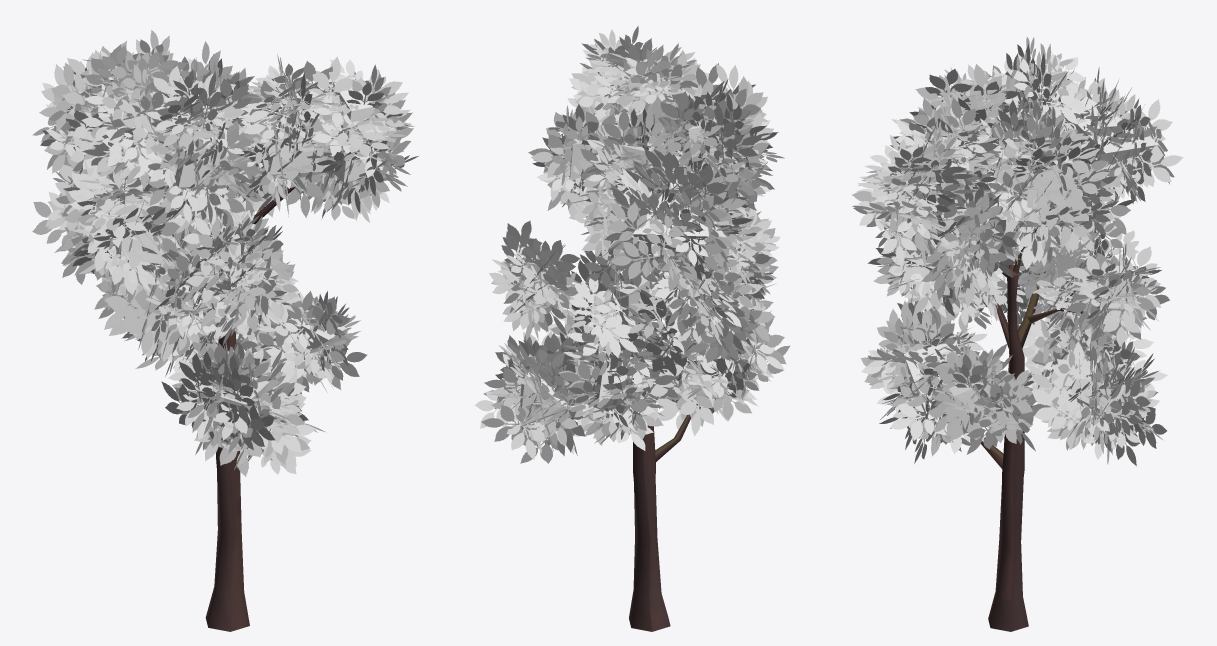
Rendered from CarretoTree.fbx.
3 views of the same model, side by side, from view 1: azimuth 30°, elevation 25°; view 2: azimuth 150°, elevation 25°; view 3: azimuth 270°, elevation 25° (orthographic). The views are drawn at different scales.
Parts seen in each view (by area): view 1: Leaves, Trunk, Leaves|StylizedCarretoBranch|Dupli|7, Leaves|StylizedCarretoBranch|Dupli|497, Leaves|StylizedCarretoBranch|Dupli|650, Leaves|StylizedCarretoBranch|Dupli|652, Leaves|StylizedCarretoBranch|Dupli|996, Leaves|StylizedCarretoBranch|Dupli|450, Leaves|StylizedCarretoBranch|Dupli|917, Leaves|StylizedCarretoBranch|Dupli|985, Leaves|StylizedCarretoBranch|Dupli|2, Leaves|StylizedCarretoBranch|Dupli|254 (+37 smaller); view 2: Leaves, Trunk, Leaves|StylizedCarretoBranch|Dupli|539, Leaves|StylizedCarretoBranch|Dupli|215, Leaves|StylizedCarretoBranch|Dupli|105, Leaves|StylizedCarretoBranch|Dupli|109, Leaves|StylizedCarretoBranch|Dupli|534, Leaves|StylizedCarretoBranch|Dupli|77, Leaves|StylizedCarretoBranch|Dupli|582, Leaves|StylizedCarretoBranch|Dupli|609, Leaves|StylizedCarretoBranch|Dupli|552, Leaves|StylizedCarretoBranch|Dupli|387 (+47 smaller); view 3: Leaves, Trunk, Leaves|StylizedCarretoBranch|Dupli|87, Leaves|StylizedCarretoBranch|Dupli|383, Leaves|StylizedCarretoBranch|Dupli|582, Leaves|StylizedCarretoBranch|Dupli|492, Leaves|StylizedCarretoBranch|Dupli|812, Leaves|StylizedCarretoBranch|Dupli|973, Leaves|StylizedCarretoBranch|Dupli|975, Leaves|StylizedCarretoBranch|Dupli|959, Leaves|StylizedCarretoBranch|Dupli|63, Leaves|StylizedCarretoBranch|Dupli|158 (+49 smaller).
Boxes of the visible parts, x1=… form: Leaves: x1=53, y1=70, x2=386, y2=433; Trunk: x1=158, y1=187, x2=294, y2=631; Leaves|StylizedCarretoBranch|Dupli|7: x1=161, y1=353, x2=240, y2=442; Leaves|StylizedCarretoBranch|Dupli|497: x1=97, y1=45, x2=177, y2=110; Leaves|StylizedCarretoBranch|Dupli|650: x1=308, y1=56, x2=402, y2=147; Leaves|StylizedCarretoBranch|Dupli|652: x1=319, y1=92, x2=408, y2=149; Leaves|StylizedCarretoBranch|Dupli|996: x1=265, y1=293, x2=351, y2=384; Leaves|StylizedCarretoBranch|Dupli|450: x1=77, y1=175, x2=166, y2=239; Leaves|StylizedCarretoBranch|Dupli|917: x1=156, y1=79, x2=251, y2=130; Leaves|StylizedCarretoBranch|Dupli|985: x1=282, y1=296, x2=367, y2=380; Leaves|StylizedCarretoBranch|Dupli|2: x1=207, y1=367, x2=274, y2=443; Leaves|StylizedCarretoBranch|Dupli|254: x1=104, y1=272, x2=178, y2=333; Leaves: x1=517, y1=53, x2=756, y2=426; Trunk: x1=571, y1=298, x2=692, y2=631; Leaves|StylizedCarretoBranch|Dupli|539: x1=607, y1=201, x2=687, y2=279; Leaves|StylizedCarretoBranch|Dupli|215: x1=573, y1=272, x2=650, y2=357; Leaves|StylizedCarretoBranch|Dupli|105: x1=481, y1=384, x2=570, y2=463; Leaves|StylizedCarretoBranch|Dupli|109: x1=637, y1=291, x2=682, y2=376; Leaves|StylizedCarretoBranch|Dupli|534: x1=644, y1=148, x2=727, y2=210; Leaves|StylizedCarretoBranch|Dupli|77: x1=475, y1=387, x2=548, y2=459; Leaves|StylizedCarretoBranch|Dupli|582: x1=645, y1=98, x2=722, y2=163; Leaves|StylizedCarretoBranch|Dupli|609: x1=580, y1=109, x2=643, y2=186; Leaves|StylizedCarretoBranch|Dupli|552: x1=658, y1=91, x2=750, y2=138; Leaves|StylizedCarretoBranch|Dupli|387: x1=501, y1=229, x2=575, y2=304; Leaves: x1=889, y1=71, x2=1158, y2=427; Trunk: x1=980, y1=209, x2=1083, y2=631; Leaves|StylizedCarretoBranch|Dupli|87: x1=1034, y1=342, x2=1121, y2=434; Leaves|StylizedCarretoBranch|Dupli|383: x1=1067, y1=238, x2=1157, y2=329; Leaves|StylizedCarretoBranch|Dupli|582: x1=1007, y1=53, x2=1091, y2=124; Leaves|StylizedCarretoBranch|Dupli|492: x1=1103, y1=99, x2=1183, y2=186; Leaves|StylizedCarretoBranch|Dupli|812: x1=1025, y1=137, x2=1100, y2=212; Leaves|StylizedCarretoBranch|Dupli|973: x1=966, y1=382, x2=1036, y2=454; Leaves|StylizedCarretoBranch|Dupli|975: x1=943, y1=359, x2=1019, y2=433; Leaves|StylizedCarretoBranch|Dupli|959: x1=915, y1=64, x2=1006, y2=125; Leaves|StylizedCarretoBranch|Dupli|63: x1=890, y1=398, x2=970, y2=454; Leaves|StylizedCarretoBranch|Dupli|158: x1=1081, y1=252, x2=1154, y2=332.
Size of the model in its own units: 537 by 584 by 1013.
